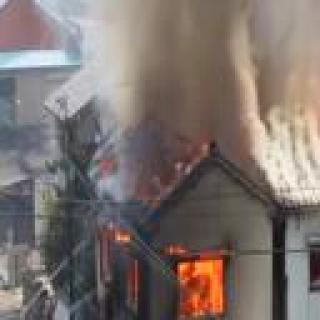fire: (79, 200, 291, 320), (301, 67, 320, 158), (299, 227, 320, 292)
